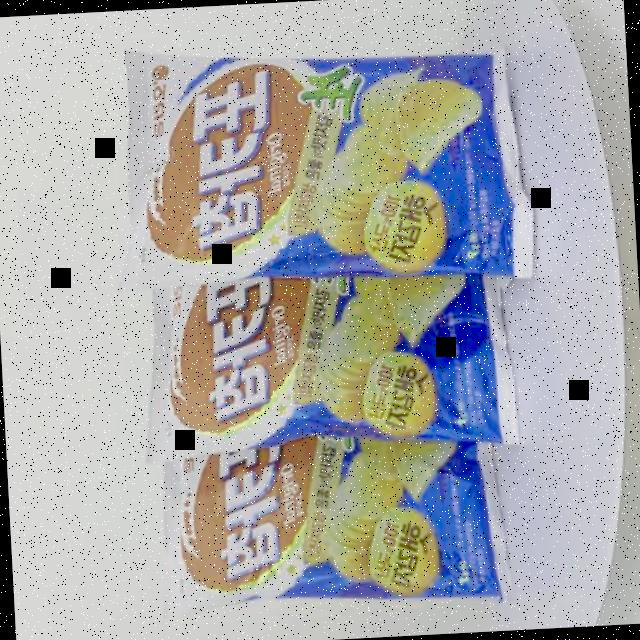snack_bag: (90, 24, 564, 636)
